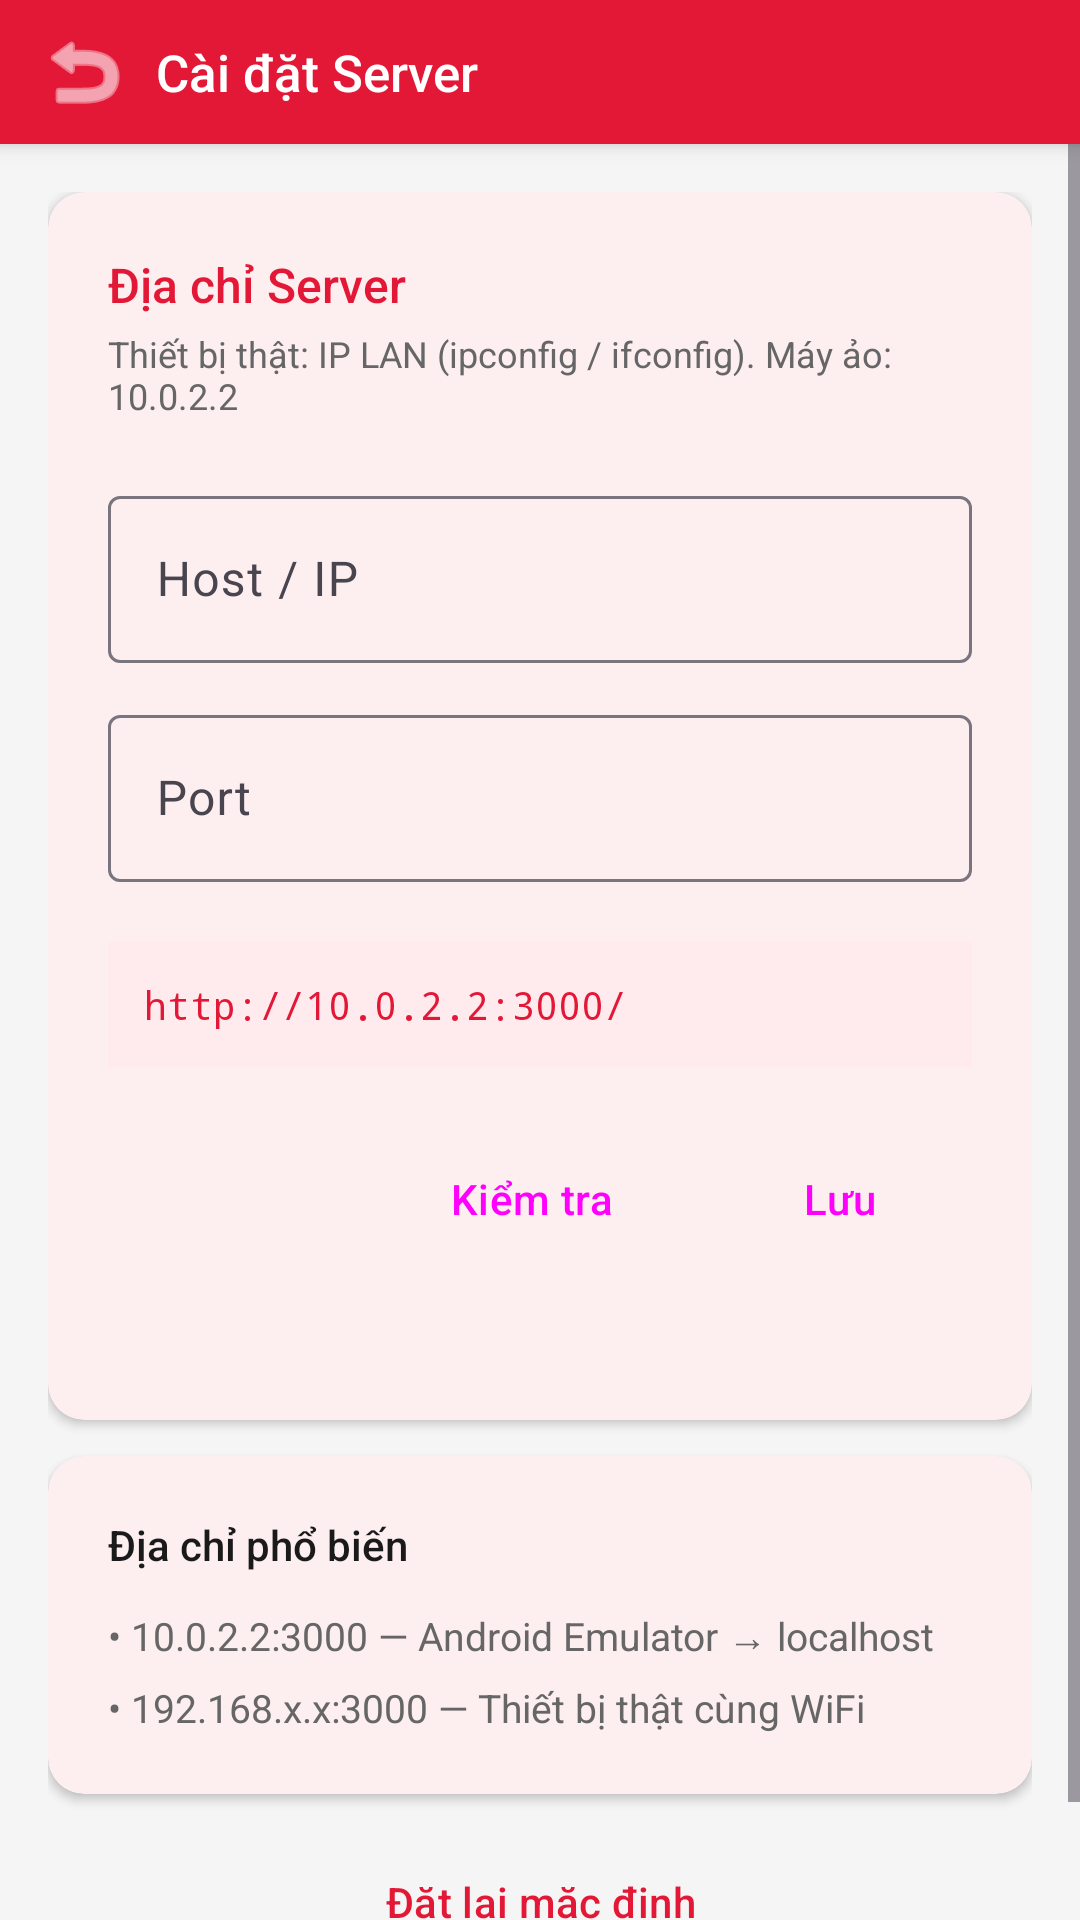

Icons on this 1080 × 1920 Android screen, each with its box as (x1, y1, x2, y2):
Quay lại: (51, 41, 120, 104)
